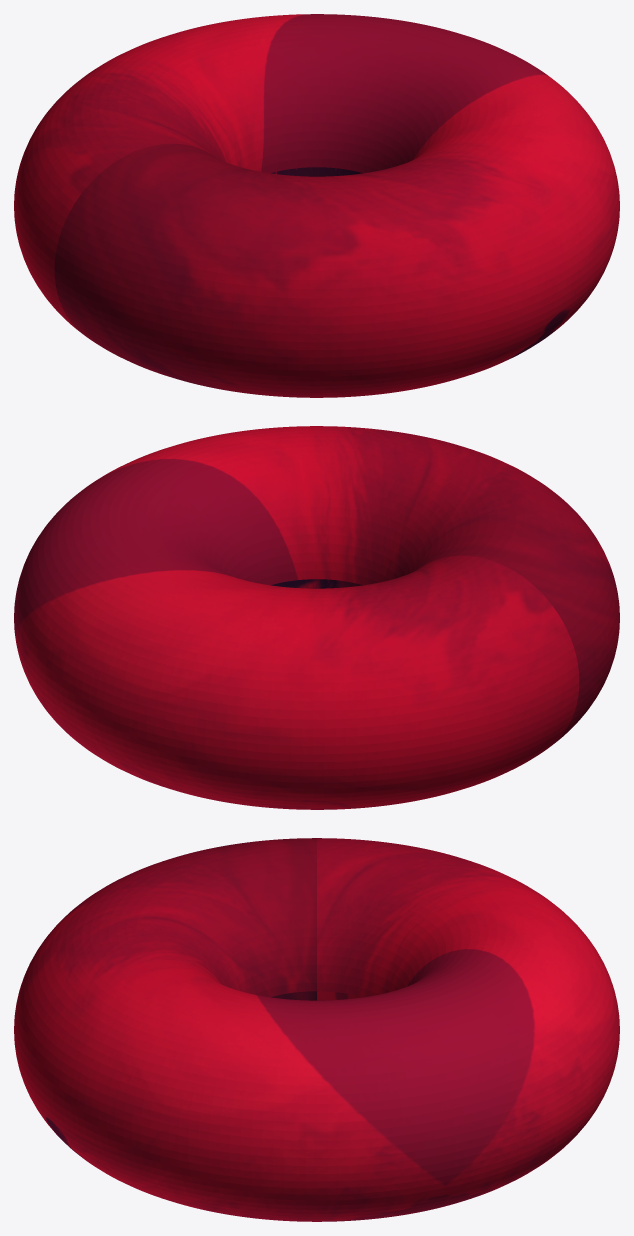
The model's file is donut.obj.
3 views of the same model, one above another, from view 1: azimuth 30°, elevation 25°; view 2: azimuth 150°, elevation 25°; view 3: azimuth 270°, elevation 25° (orthographic).
Parts seen in each view (by area): view 1: Torus; view 2: Torus; view 3: Torus.
Boxes of the visible parts, x1,y1,x2,y2 form: Torus: (14, 14, 619, 397); Torus: (14, 426, 619, 809); Torus: (14, 838, 619, 1221).
Bounding box in the file's own units: 2.13 × 0.7778 × 2.13.
Materials: 1 (1 with a texture image).
